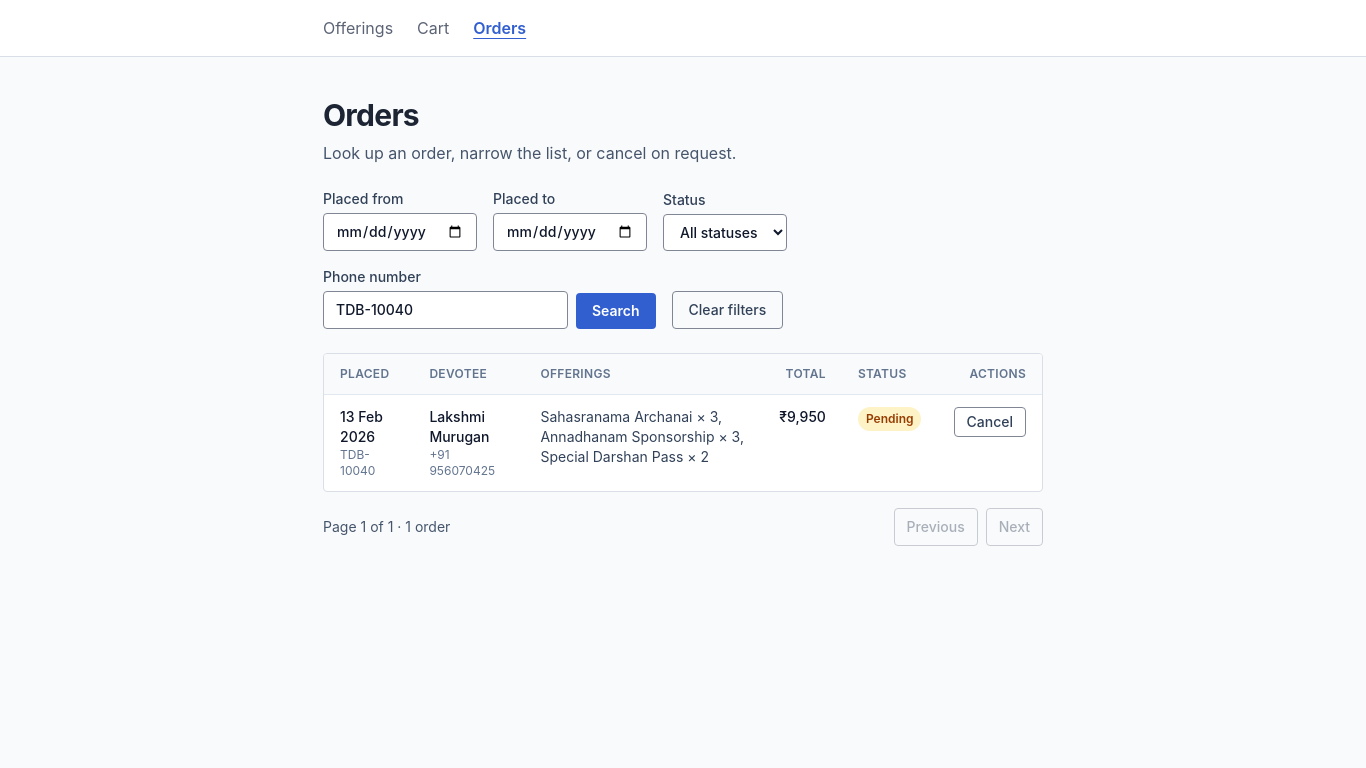
Orders screen › shows an order as cancelled straight away once confirmed
Click the button "Cancel": x=990, y=422 x1=954 y1=407 x2=1026 y2=437
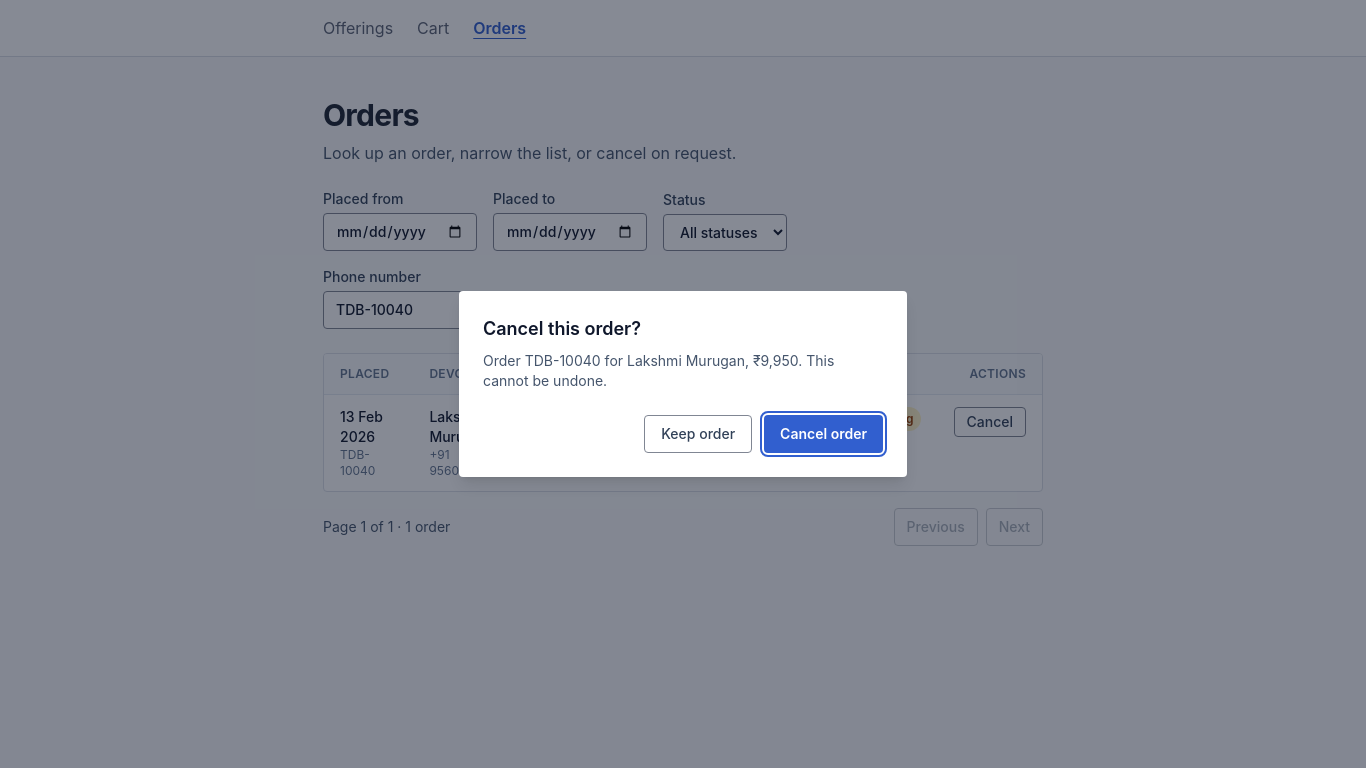
Click the button "Cancel order": x=824, y=434 x1=764 y1=415 x2=883 y2=453
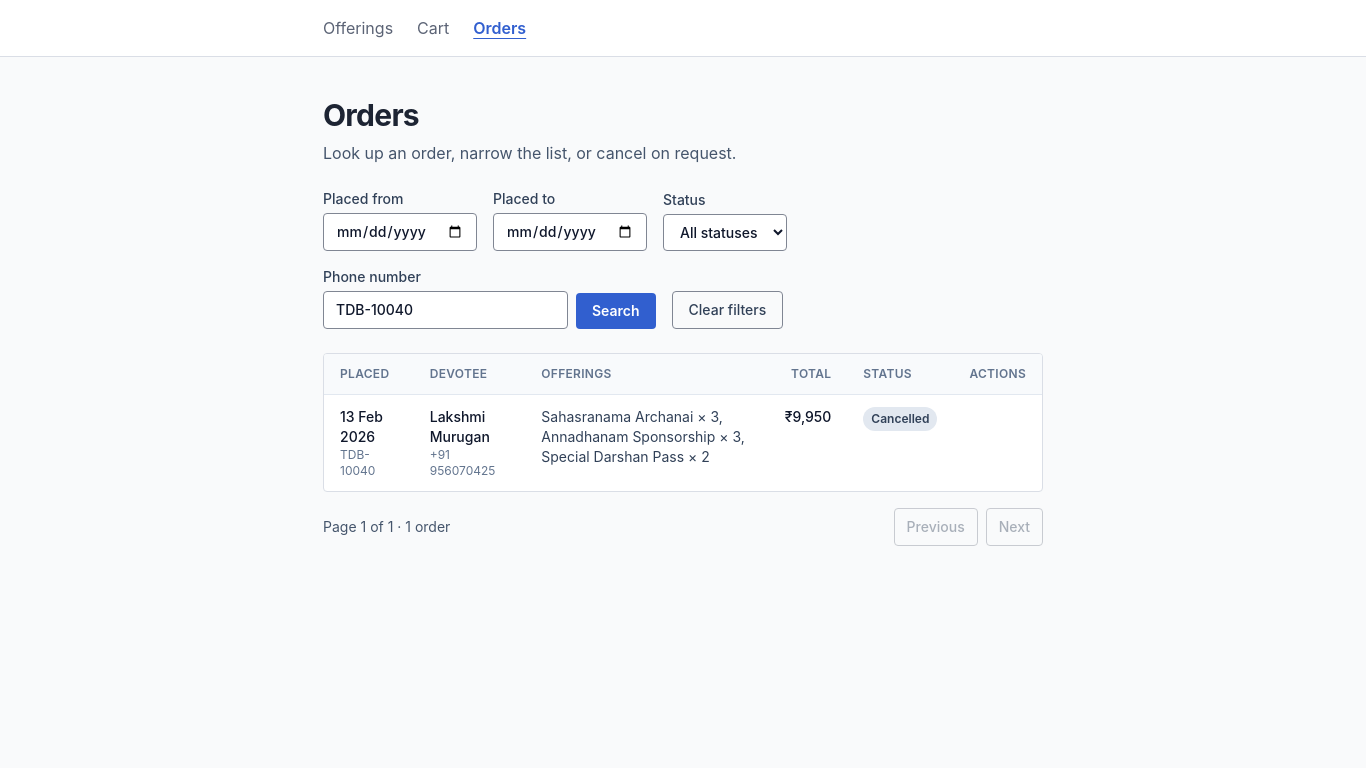
Check: the dialog is gone
